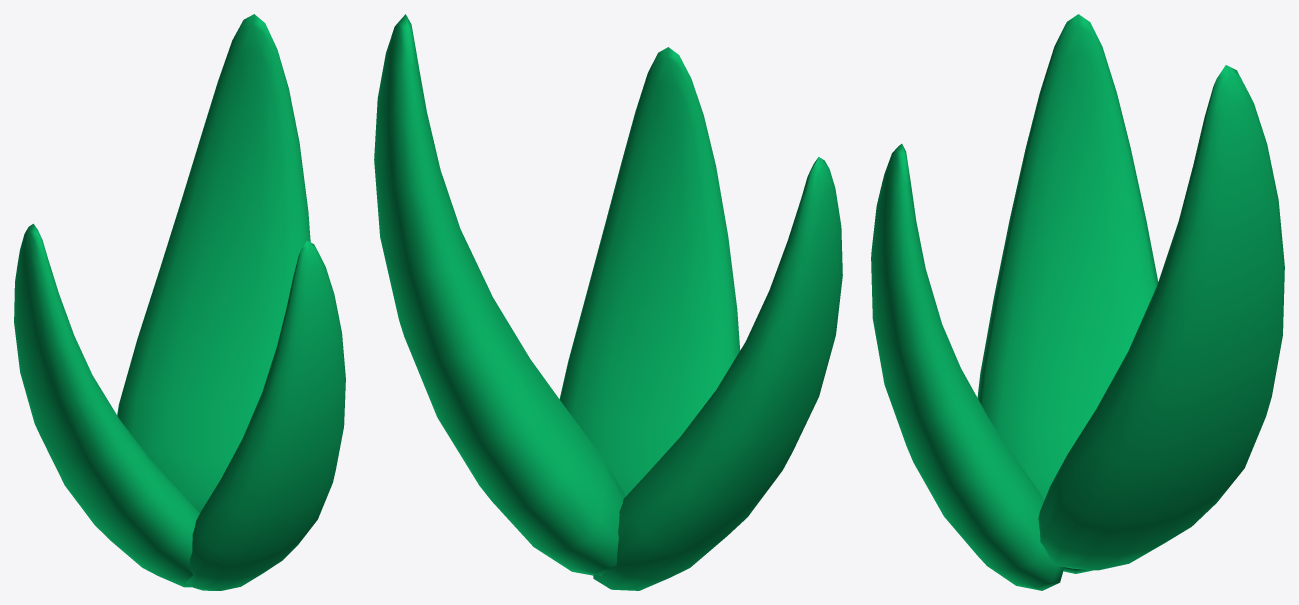
File: City_15_Grass_2.glb
3 renders of one model, left to right at view 1: azimuth 30°, elevation 25°; view 2: azimuth 150°, elevation 25°; view 3: azimuth 270°, elevation 25°, orthographic. The views are drawn at different scales.
Parts seen in each view (by area): view 1: City_15_Grass_2; view 2: City_15_Grass_2; view 3: City_15_Grass_2.
Part boxes in pixels (left/top/right/bottom): City_15_Grass_2: left=14, top=14, right=345, bottom=590; City_15_Grass_2: left=374, top=14, right=842, bottom=590; City_15_Grass_2: left=871, top=14, right=1284, bottom=590.
Bounding box in the file's own units: 0.1905 × 0.2717 × 0.1754.
1 material, 1 textured.
